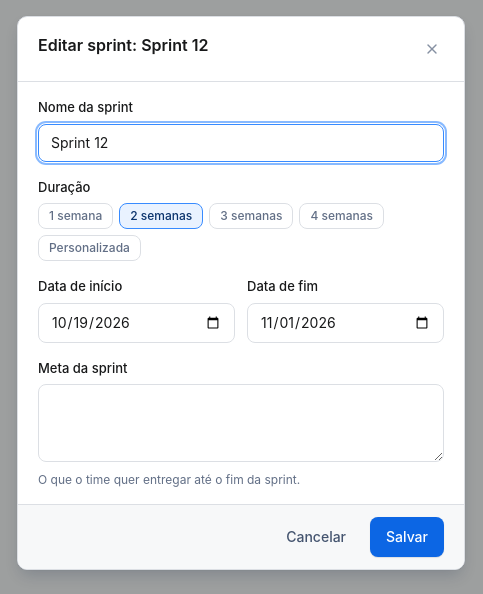
Test: <EditSprintModal /> › nome vazio não salva
The width and height of the screenshot is (483, 594).
Clear the field labelled "Nome da sprint" at coordinates (241, 142), box [38,124,444,162]
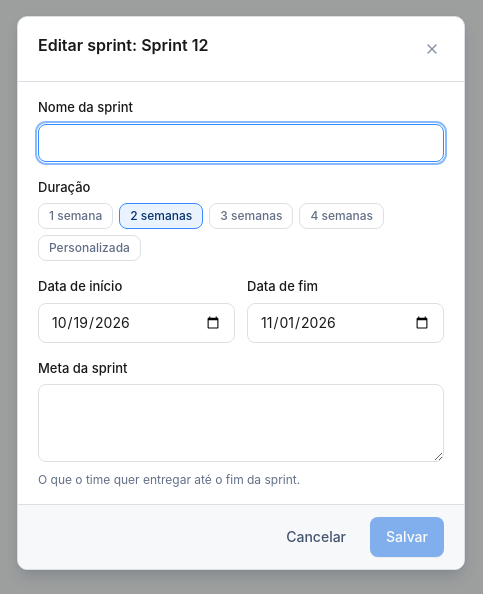
Expected: the button "Salvar" is disabled, [370,517,444,557]
